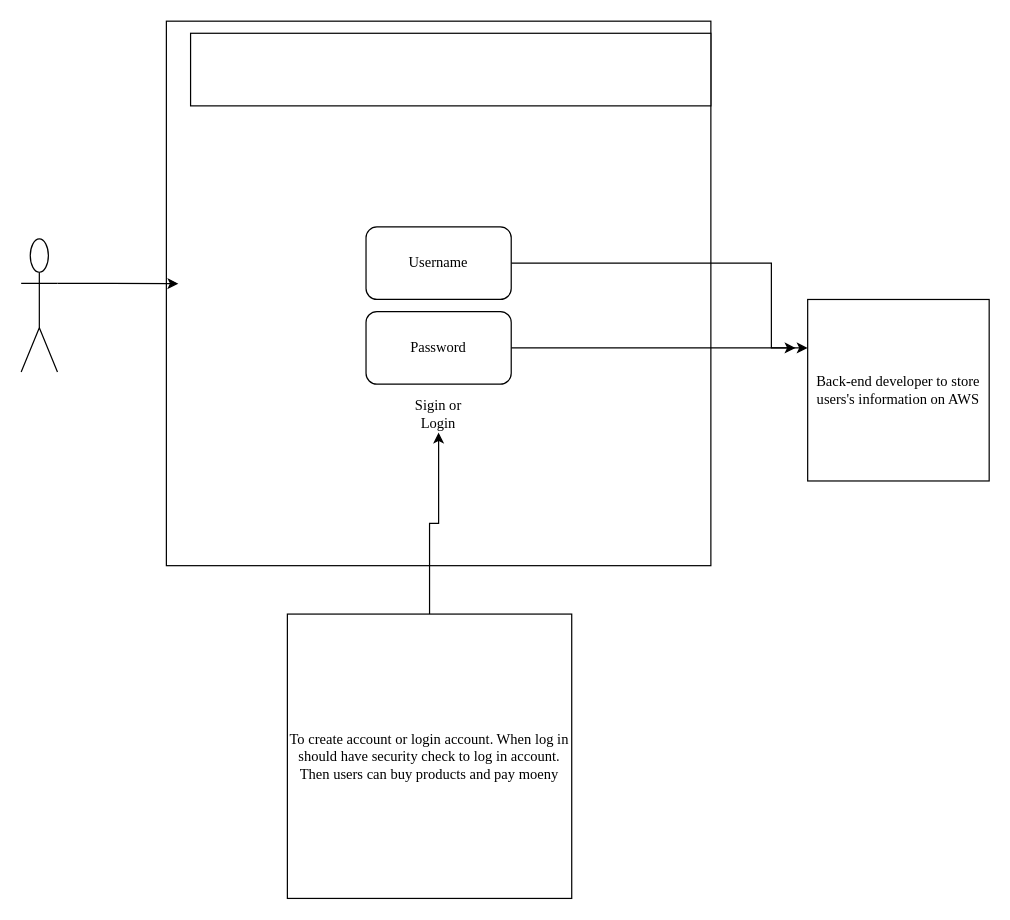
The diagram is 1010 pixels wide and 920 high, and some of its shapes have lost their labels. Here are the shapes that lost their labels. From the top down, the centre of each, then its label:
(450,69): Navigation Bar
(38,305): Actor
